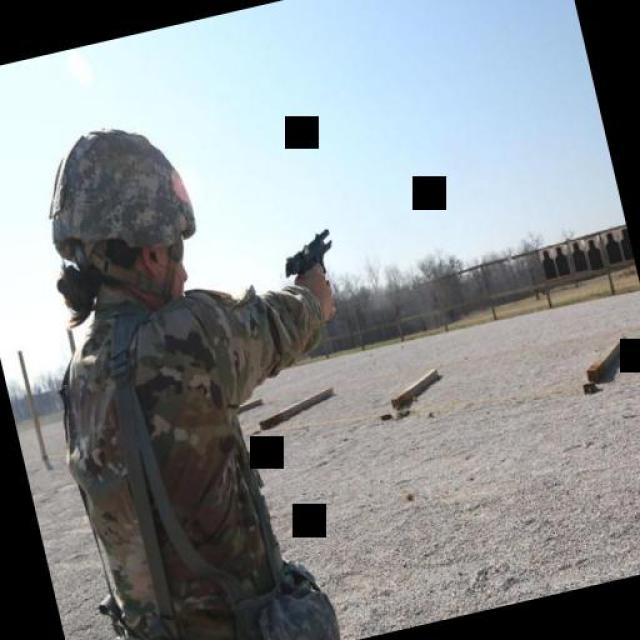gun: (275, 226, 341, 289)
